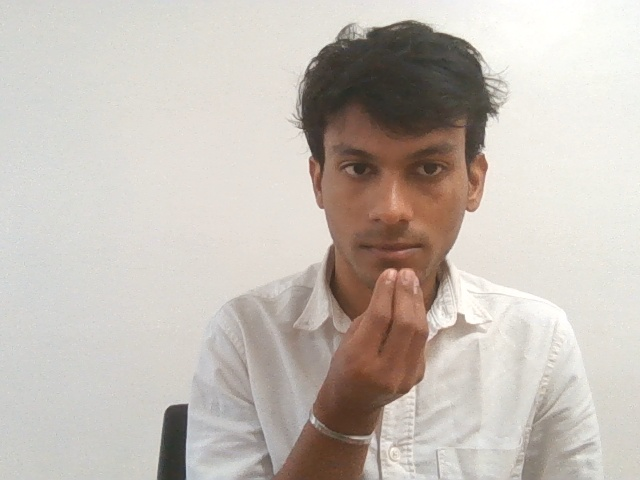Eat: (311, 262, 433, 444)
